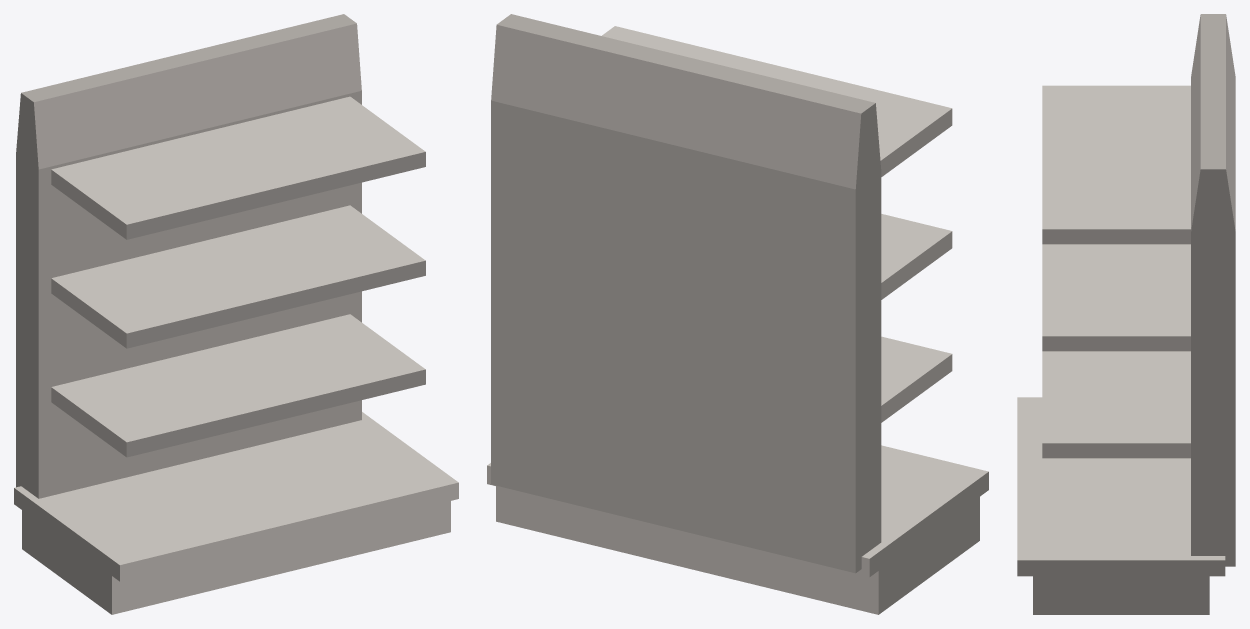
Rendered from ShelfIsleEndEmpty.glb.
3 renders of one model, left to right at view 1: azimuth 30°, elevation 25°; view 2: azimuth 150°, elevation 25°; view 3: azimuth 270°, elevation 25°, orthographic. The views are drawn at different scales.
Parts seen in each view (by area): view 1: SI_Prop_Shelf_Isle_End_01; view 2: SI_Prop_Shelf_Isle_End_01; view 3: SI_Prop_Shelf_Isle_End_01.
Boxes of the visible parts, x1,y1,x2,y2 form: SI_Prop_Shelf_Isle_End_01: (14,14,458,614); SI_Prop_Shelf_Isle_End_01: (487,14,988,614); SI_Prop_Shelf_Isle_End_01: (1017,14,1235,614).
Size of the model in its own units: 0.0338 by 0.0428 by 0.0192.
Materials: 1 (1 with a texture image).
